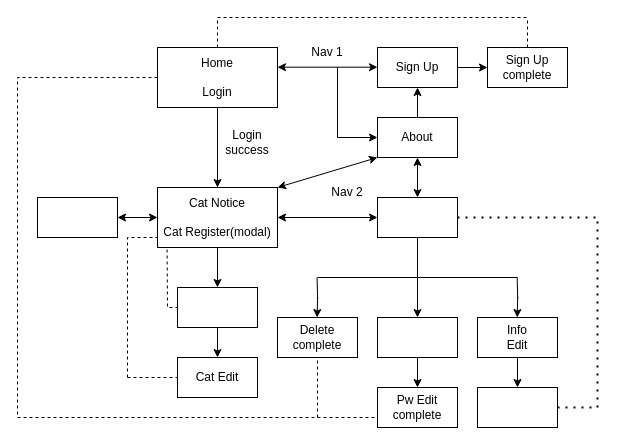
Some shapes in this 617 by 445 pixel diagram are drawn without their labels. Each missing label, with the centre of its shape:
Cat Info Cat Delete: the point at 217,307
Info Edit complete: the point at 517,407
Locate: the point at 77,217
My Page: the point at 417,217
Password Edit: the point at 417,337
